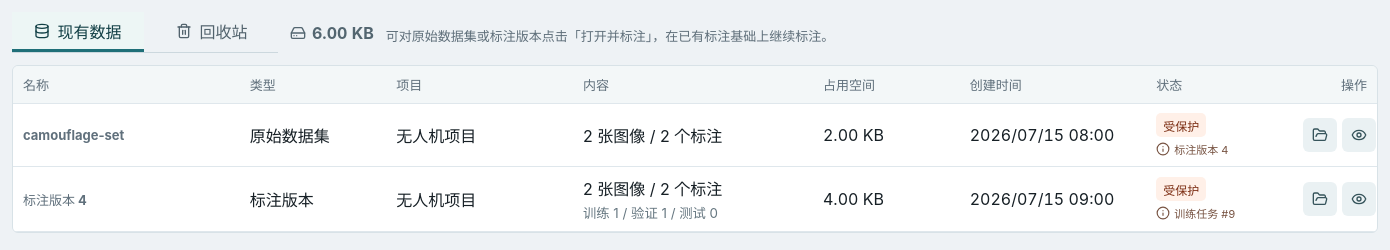
Test: StorageManagementView › 到期清理成功使用状态通知而不是错误警报
The image size is (1390, 250).
Click the tab "回收站" at (212, 32), box left=146, top=12, right=278, bottom=52
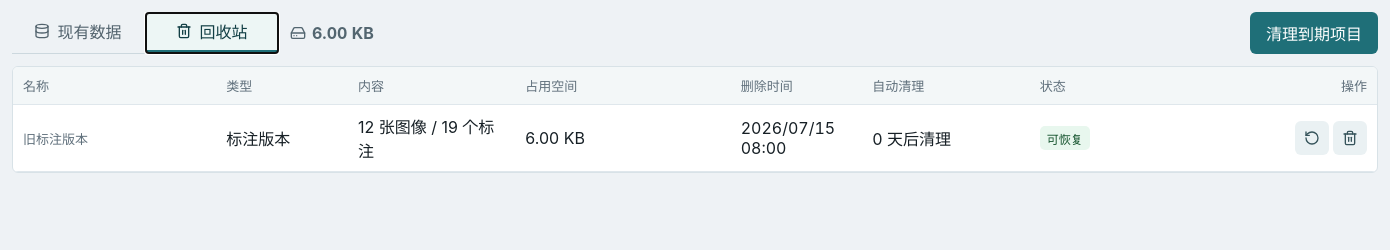
Now the table named "回收站数据" is shown, box left=13, top=67, right=1377, bottom=172
Click the button "清理到期项目" at (1314, 33), box left=1250, top=12, right=1378, bottom=54
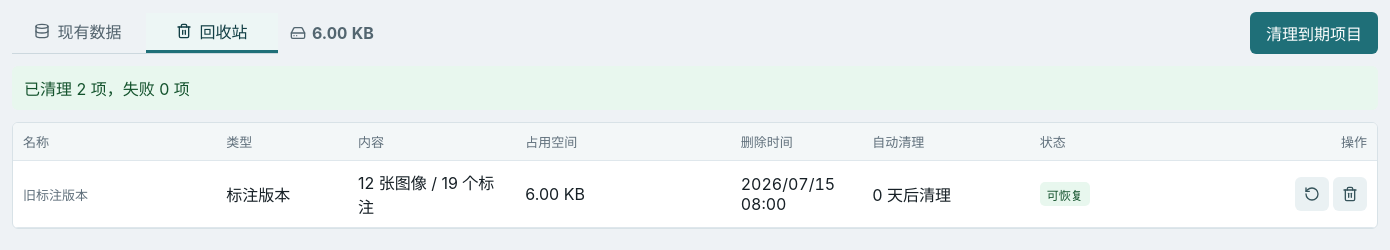
Now the message reads "已清理 2 项，失败 0 项", box left=24, top=79, right=190, bottom=99
